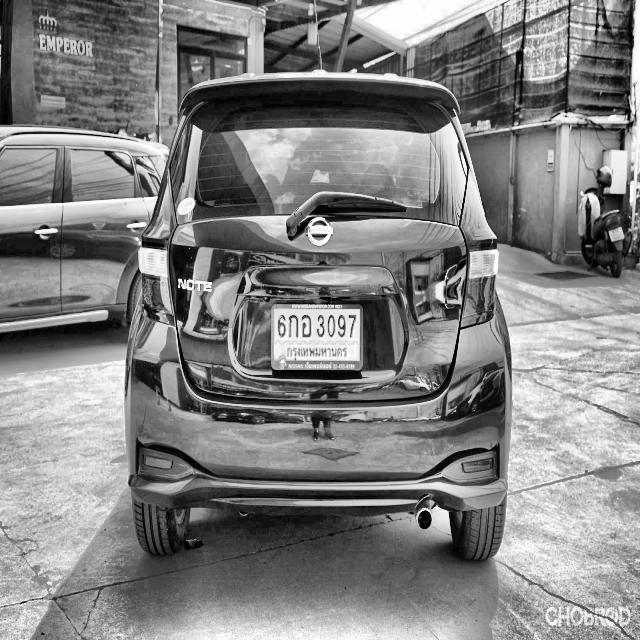license-plate: (266, 294, 367, 376)
